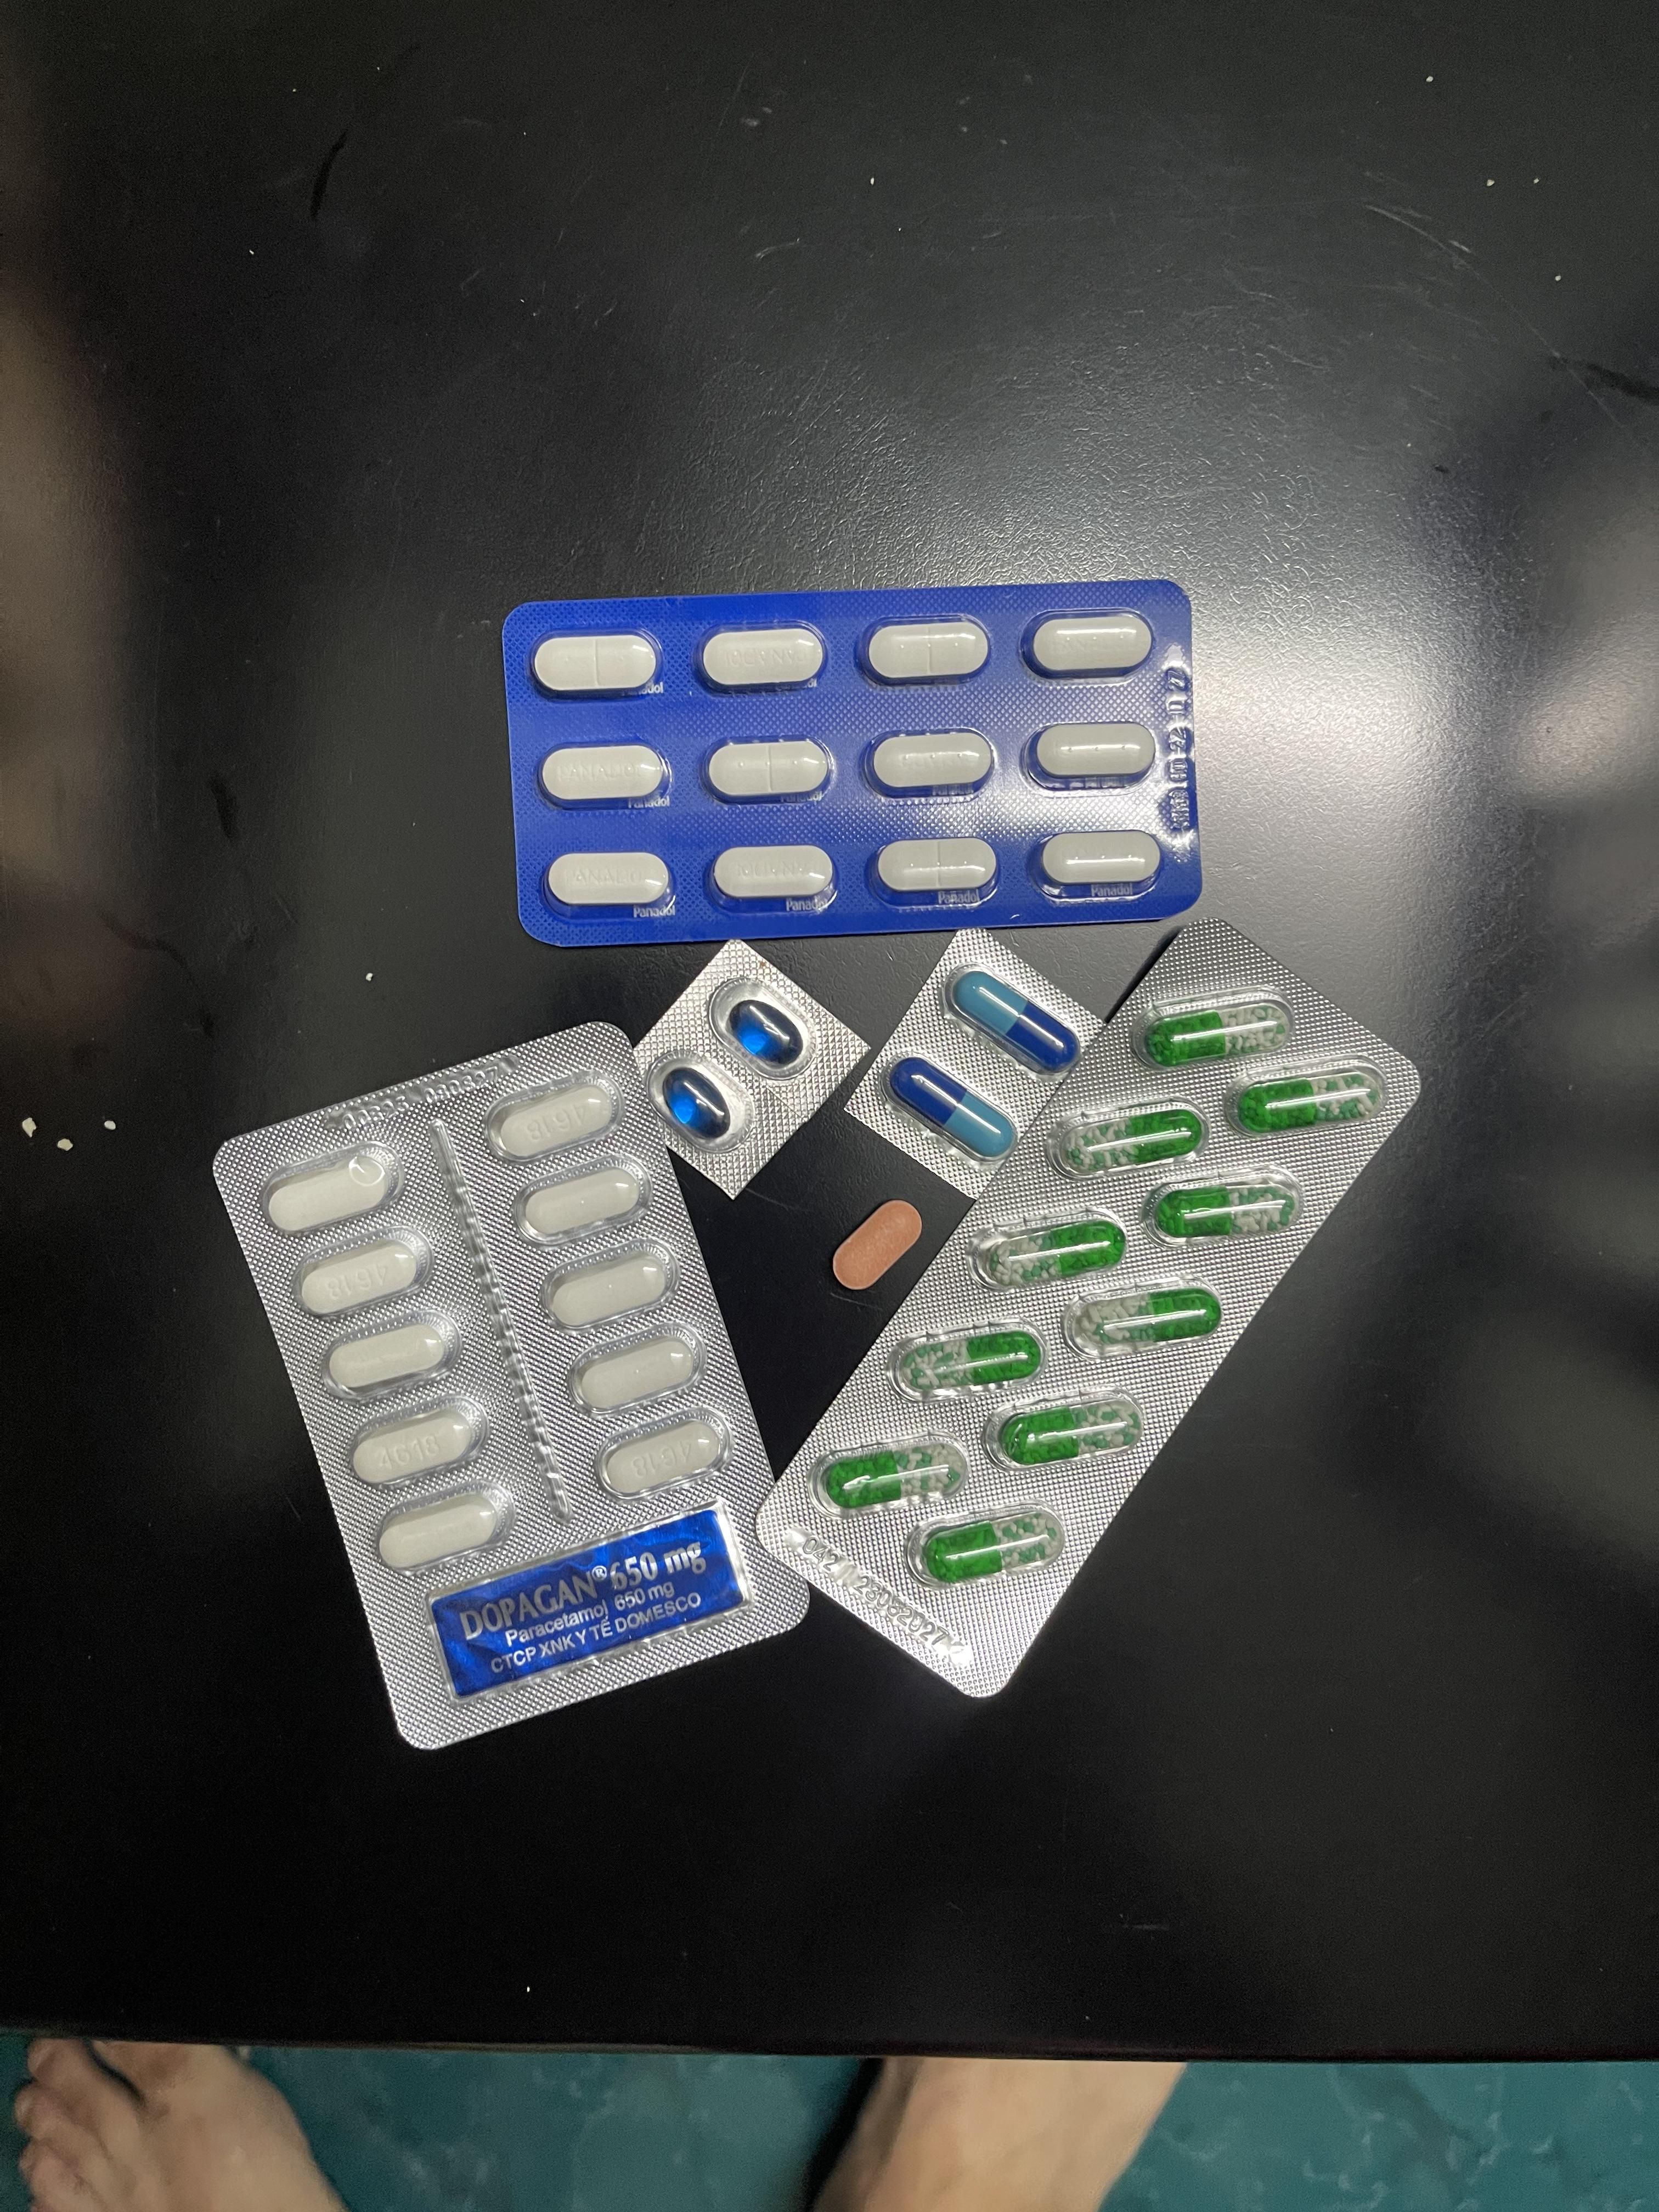Lincomyxin_500mg: (664, 1068, 734, 1139), (730, 1000, 802, 1064)
Loratadine_10mg: (831, 1200, 925, 1294)
Paracetamol_350mg: (1025, 611, 1155, 678), (863, 620, 990, 685), (701, 627, 831, 690), (868, 732, 999, 794), (540, 744, 669, 806), (533, 632, 659, 697), (704, 740, 833, 803), (1028, 723, 1157, 784), (1039, 833, 1168, 892), (545, 852, 671, 909), (711, 845, 836, 902), (873, 840, 999, 897)
Paracetamol_500mg: (350, 1395, 491, 1491), (265, 1148, 403, 1237), (378, 1486, 516, 1573), (568, 1325, 702, 1414), (296, 1233, 430, 1320), (594, 1416, 732, 1500), (324, 1315, 460, 1397), (542, 1249, 674, 1332), (484, 1076, 617, 1158), (518, 1163, 650, 1244)
Paracetamol_650mg: (1046, 1099, 1202, 1177), (986, 1393, 1138, 1474), (812, 1437, 964, 1514), (1070, 1285, 1223, 1359), (1234, 1061, 1389, 1132), (897, 1324, 1047, 1397), (971, 1217, 1122, 1289), (1148, 1177, 1295, 1238), (924, 1519, 1051, 1583), (1148, 1007, 1284, 1064)
pill: (948, 965, 1080, 1073), (887, 1054, 1019, 1158)
